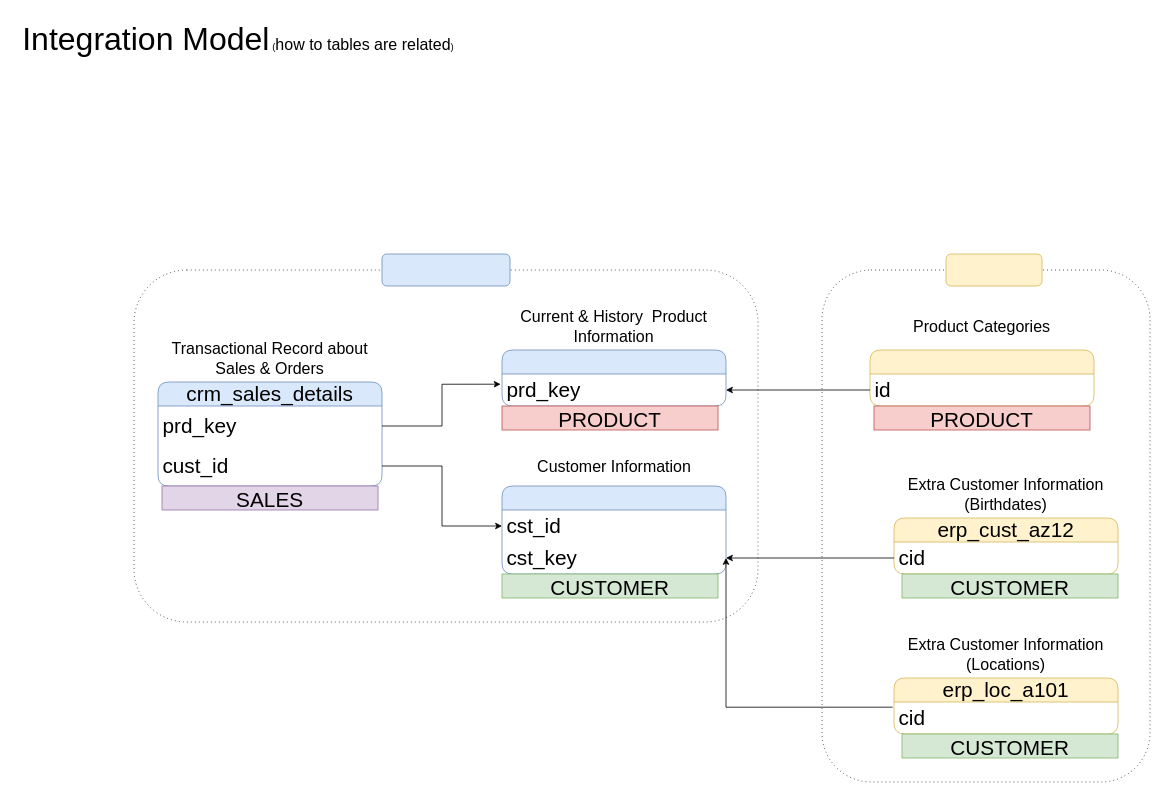
This 1164x796 diagram has some shape labels left out. The shapes that lost their labels are listed below. From the top down, each one's box as (x1, y1, x2, y2) in pixels, then its label:
(381, 253, 510, 286): CRM
(945, 253, 1042, 286): ERP
(501, 349, 726, 406): crm_prd_info
(869, 349, 1094, 406): erb_px_cat_g1v2
(501, 485, 726, 574): crm_cust_info
